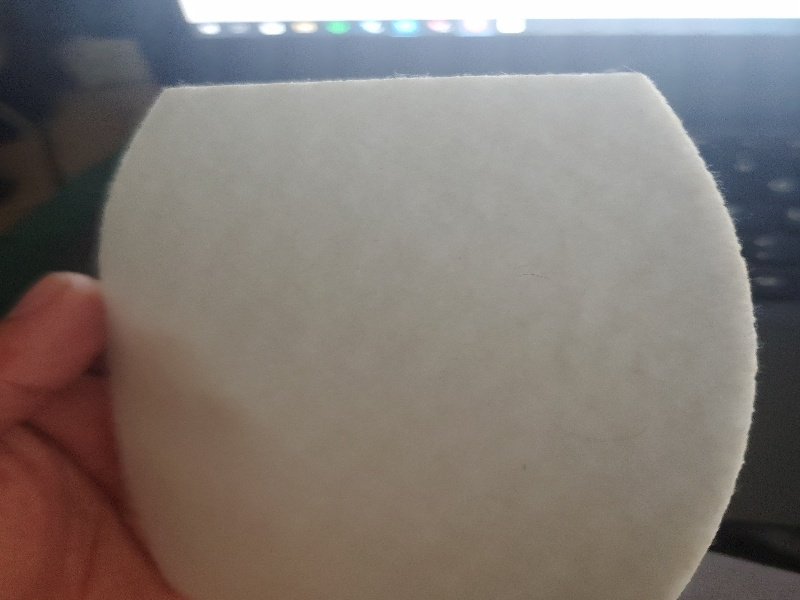Filter: (98, 71, 760, 599)
